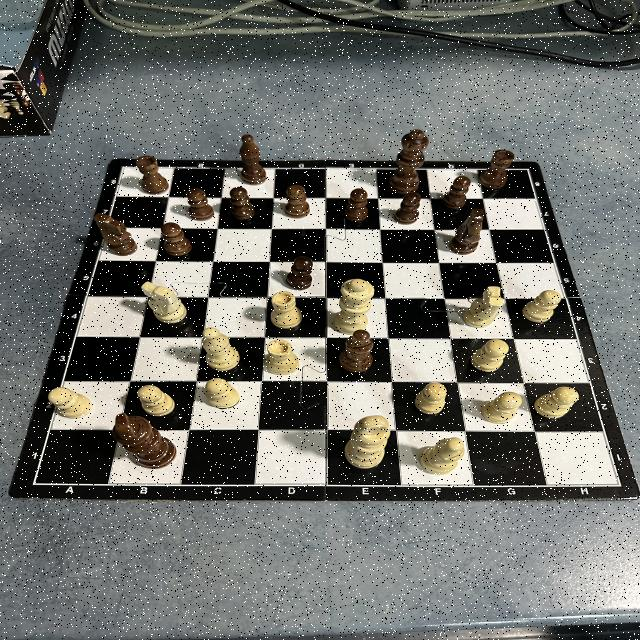Black-Bishop: (338, 330, 374, 372), (239, 134, 267, 185)
Black-King: (111, 412, 178, 470)
Black-Knight: (94, 212, 138, 255), (448, 208, 484, 254)
Black-Pawn: (161, 223, 192, 257), (442, 176, 472, 210), (285, 256, 314, 290), (186, 187, 214, 221), (394, 192, 422, 225), (283, 185, 311, 218), (228, 187, 255, 220), (344, 188, 368, 222)
Black-Queen: (388, 128, 431, 194)
Black-Rook: (477, 148, 515, 190), (132, 154, 169, 196)
White-Bishop: (200, 327, 242, 371), (419, 437, 465, 476)
White-King: (344, 416, 391, 470)
White-Knight: (140, 281, 188, 325), (462, 286, 504, 328)
White-Pawn: (48, 387, 94, 419), (534, 386, 578, 419), (521, 290, 562, 324), (480, 391, 522, 424), (470, 338, 510, 372), (136, 385, 176, 417), (413, 382, 448, 416), (206, 378, 240, 409)
White-Queen: (334, 278, 374, 335)
White-Rook: (264, 339, 300, 375), (270, 292, 303, 328)
